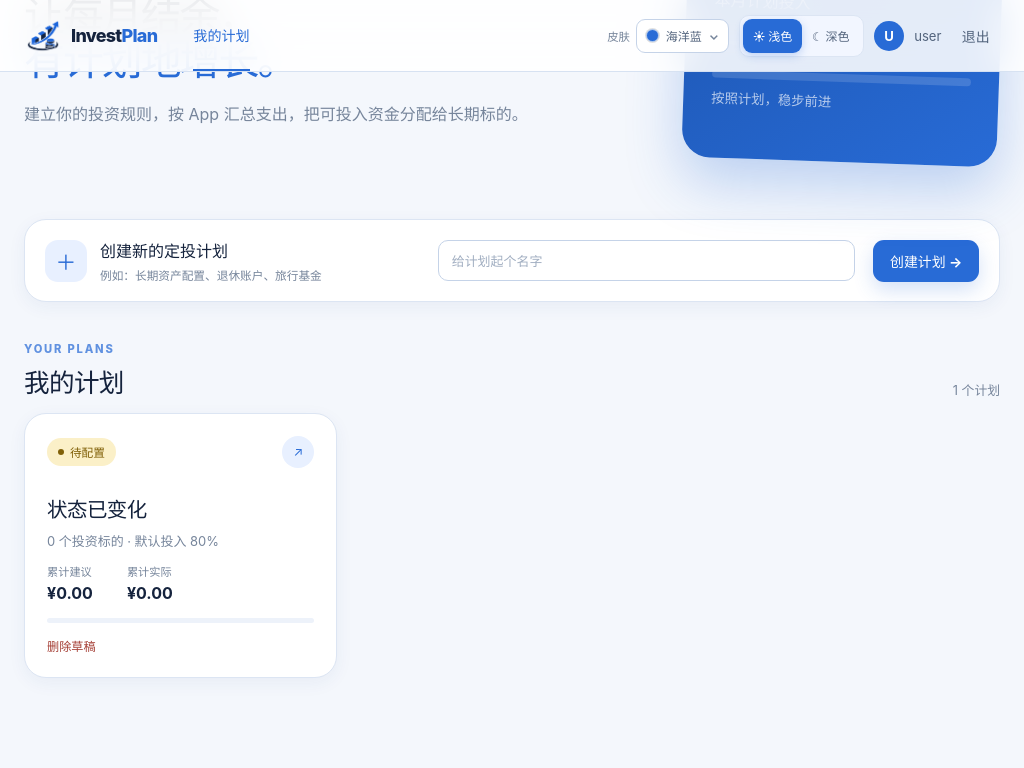
it: investment target settings › keeps the draft visible when deletion eligibility is stale
(page scrolled)
Click the button "删除草稿" at (71, 646), box [47,636,96,654]
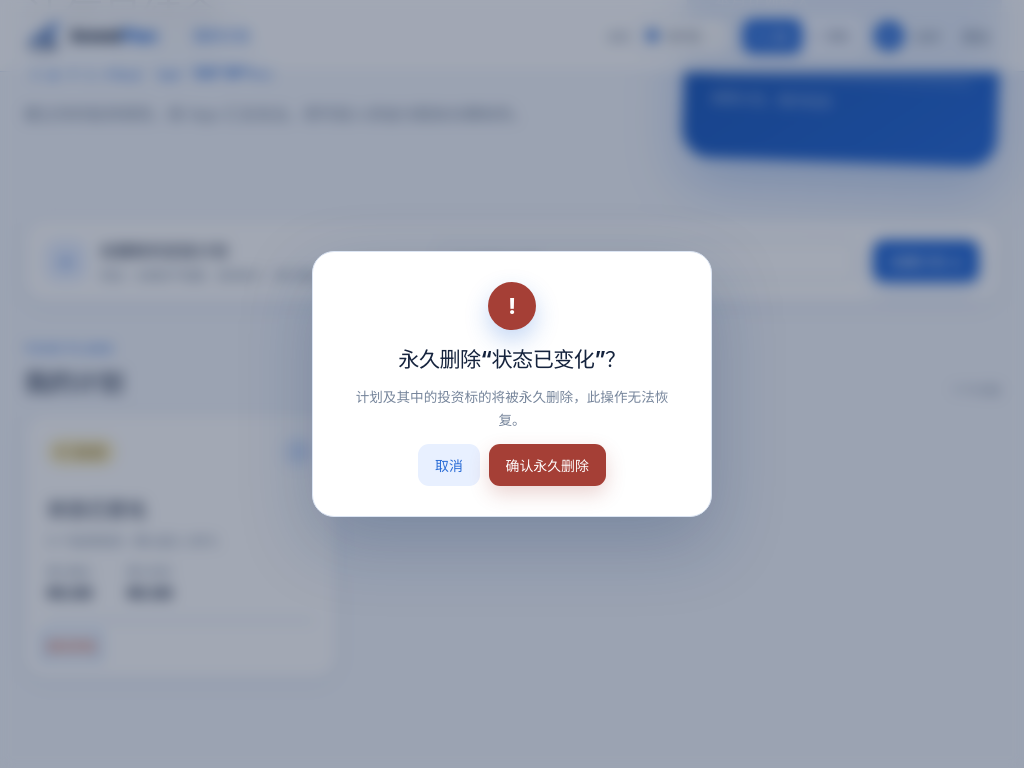
Click the button "确认永久删除" at (547, 465), box [489,444,606,486]
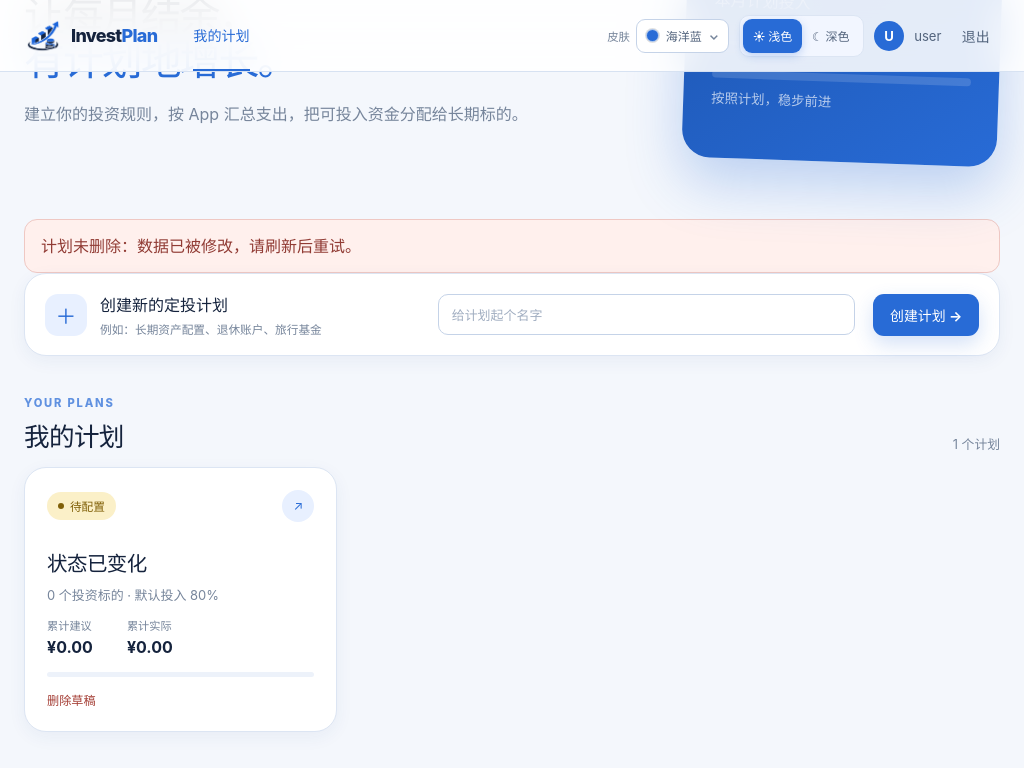
Expected: the heading "状态已变化" is shown, [47,551,147,576]
Expected: the message shows "计划未删除", [41,236,361,256]
